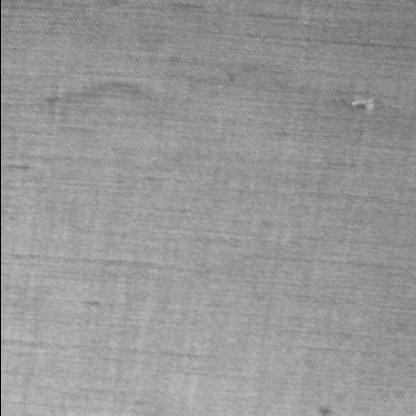hole: (346, 97, 380, 113)
